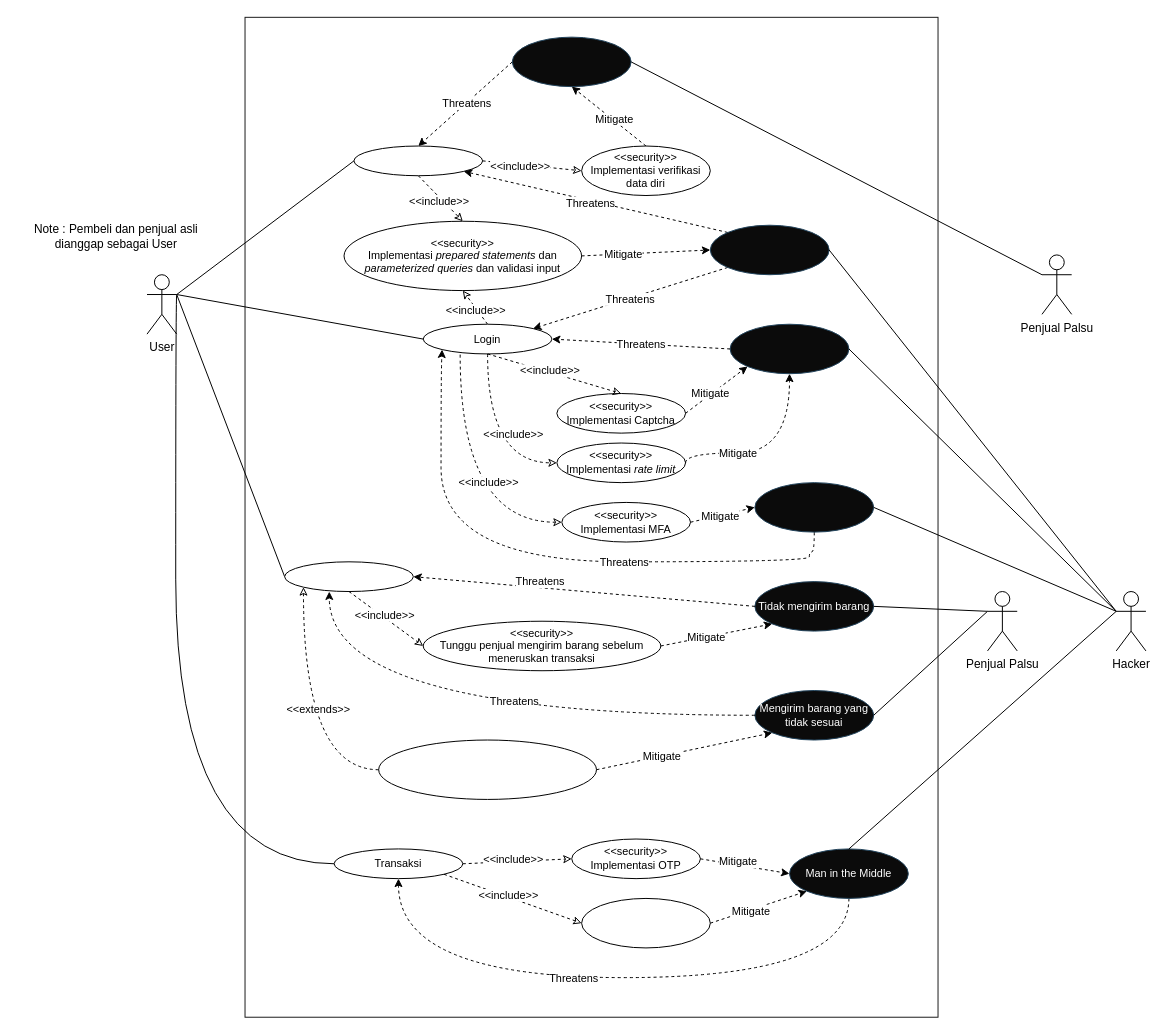
Some shapes in this 1166 by 1035 pixel diagram are drawn without their labels. The box of each missing label's shape, as (x1, y1, x2, y2) in pixels:
<<security>> Implementasi enkripsi SSL/TLS: (581, 897, 710, 948)
<<security>> Implementasi sistem pelaporan dan refund: (378, 739, 596, 799)
Beli Barang: (284, 561, 413, 592)
Brute Force: (729, 323, 849, 374)
Credential Stuffing: (754, 482, 874, 532)
Menggunakan data palsu: (511, 36, 631, 87)
Registrasi: (353, 145, 483, 176)
SQL Injection: (709, 224, 829, 275)
